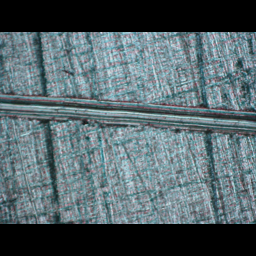d: (1, 91, 255, 142)
